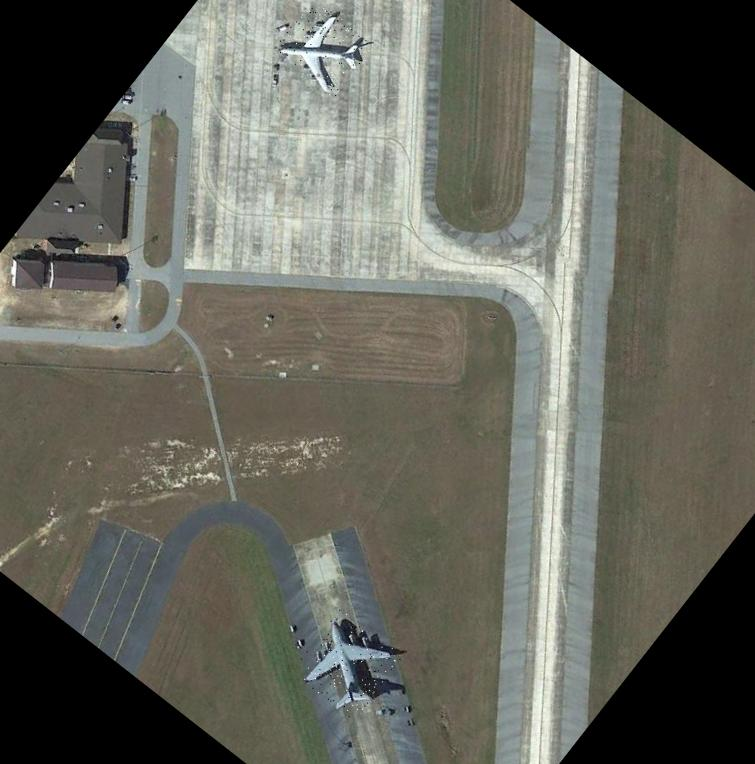A11: (271, 0, 375, 99)
A3: (290, 608, 404, 722)
